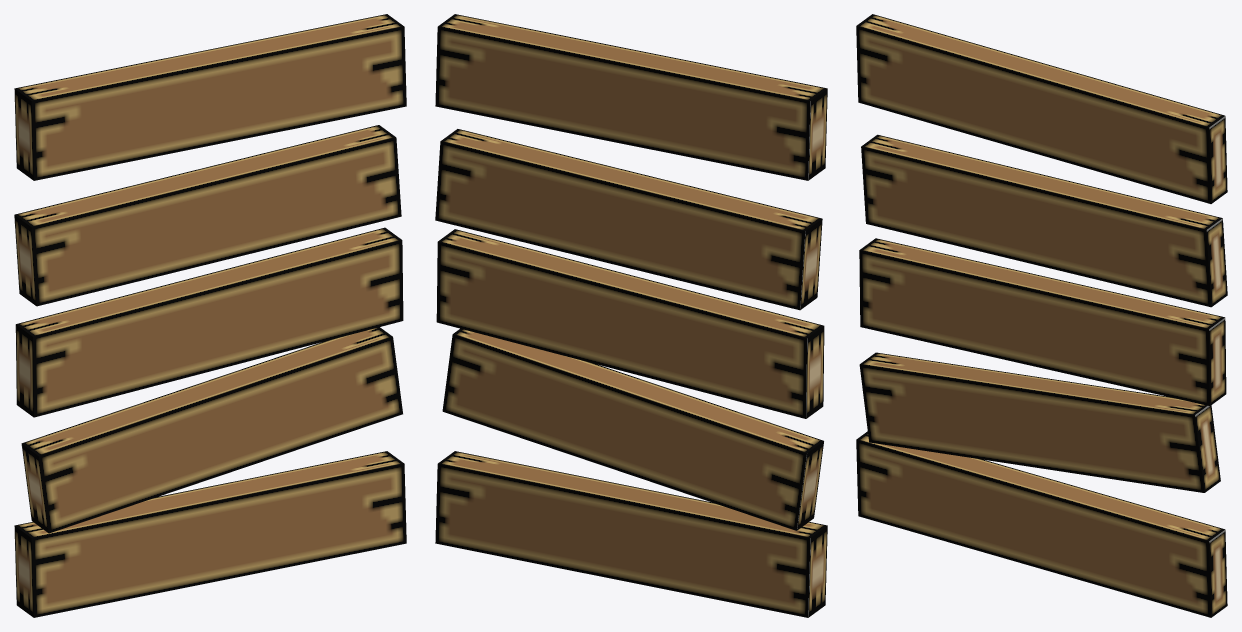
The model's file is deco_woodenFence_shortBig.FBX.
3 renders of one model, left to right at view 1: azimuth 30°, elevation 25°; view 2: azimuth 150°, elevation 25°; view 3: azimuth 330°, elevation 25°, orthographic. The views are drawn at different scales.
Visible parts, largest first — view 1: deco_woodenFence_shortBig; view 2: deco_woodenFence_shortBig; view 3: deco_woodenFence_shortBig.
Boxes of the visible parts, box(x1,y1,x2,y2) form: deco_woodenFence_shortBig: box(14, 14, 406, 617); deco_woodenFence_shortBig: box(435, 14, 827, 617); deco_woodenFence_shortBig: box(856, 14, 1227, 617).
Size of the model in its own units: 2.42 by 3.3 by 0.2425.
Materials: 1 (1 with a texture image).
